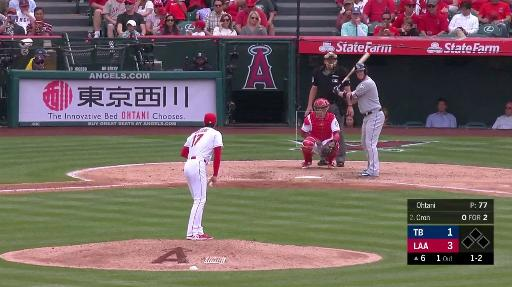pitcher: (180, 114, 223, 242)
